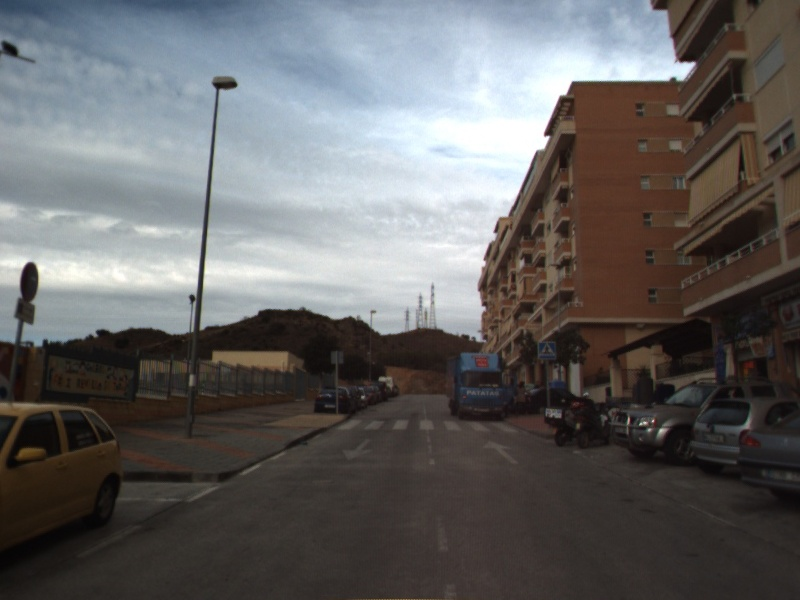STRAIGHT: (481, 439, 521, 466)
